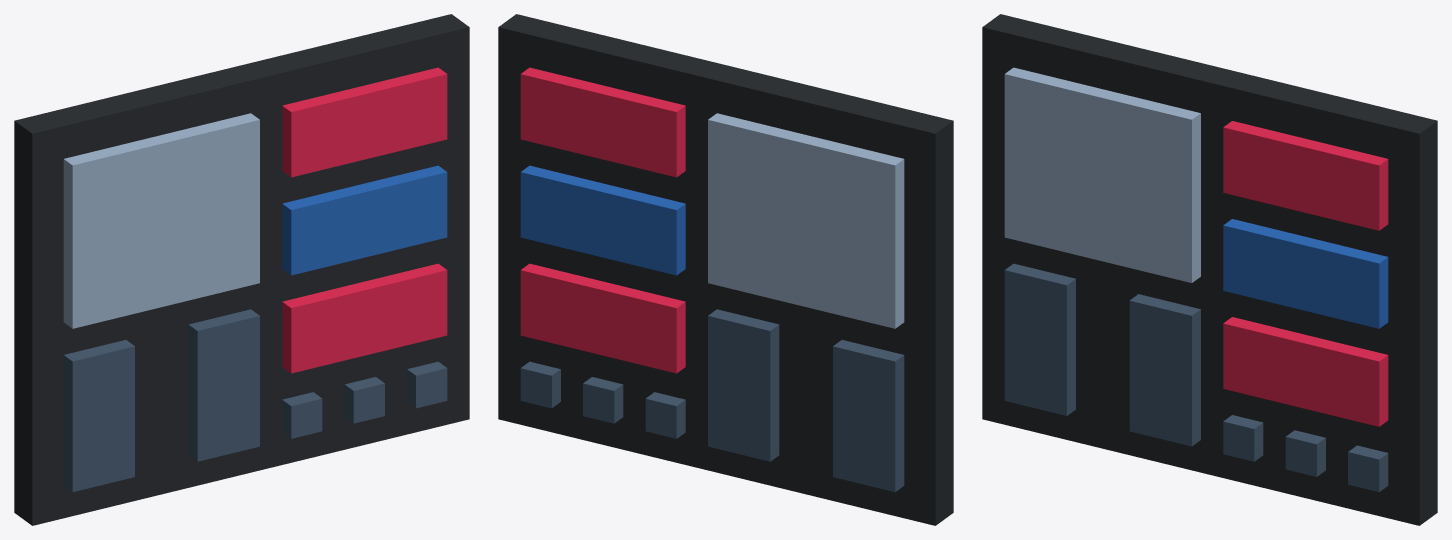
The model's file is Control Panel 2.glb.
3 renders of one model, left to right at view 1: azimuth 30°, elevation 25°; view 2: azimuth 150°, elevation 25°; view 3: azimuth 330°, elevation 25°, orthographic.
Visible parts, largest first — view 1: generated(Clone); view 2: generated(Clone); view 3: generated(Clone).
Part boxes in pixels (box(x1,y1,x2,y2)): generated(Clone): box(14, 14, 469, 525); generated(Clone): box(498, 14, 953, 525); generated(Clone): box(982, 14, 1437, 525).
Size of the model in its own units: 14 by 12 by 2.
Materials: 1 (1 with a texture image).
